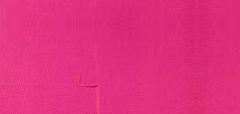snag: (75, 72, 101, 92)
